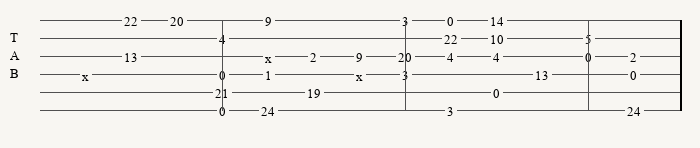0: (219, 104, 230, 117), (219, 68, 230, 81), (447, 14, 458, 27), (493, 86, 504, 99), (585, 50, 596, 63), (630, 68, 641, 81)
1: (265, 68, 276, 81)
10: (490, 32, 508, 45)
13: (124, 50, 142, 63), (535, 68, 553, 81)
14: (490, 14, 508, 27)
19: (307, 86, 325, 99)
2: (310, 50, 321, 63), (630, 50, 641, 63)
20: (170, 14, 188, 27), (398, 50, 416, 63)
21: (215, 86, 233, 99)
22: (124, 14, 142, 27), (444, 32, 462, 45)
24: (261, 104, 279, 117), (627, 104, 645, 117)
3: (402, 68, 413, 81), (402, 14, 413, 27), (447, 104, 458, 117)
4: (219, 32, 230, 45), (447, 50, 458, 63), (493, 50, 504, 63)
5: (585, 32, 596, 45)
9: (265, 14, 276, 27), (356, 50, 367, 63)
x: (82, 69, 93, 79), (265, 51, 276, 61), (356, 69, 367, 79)
